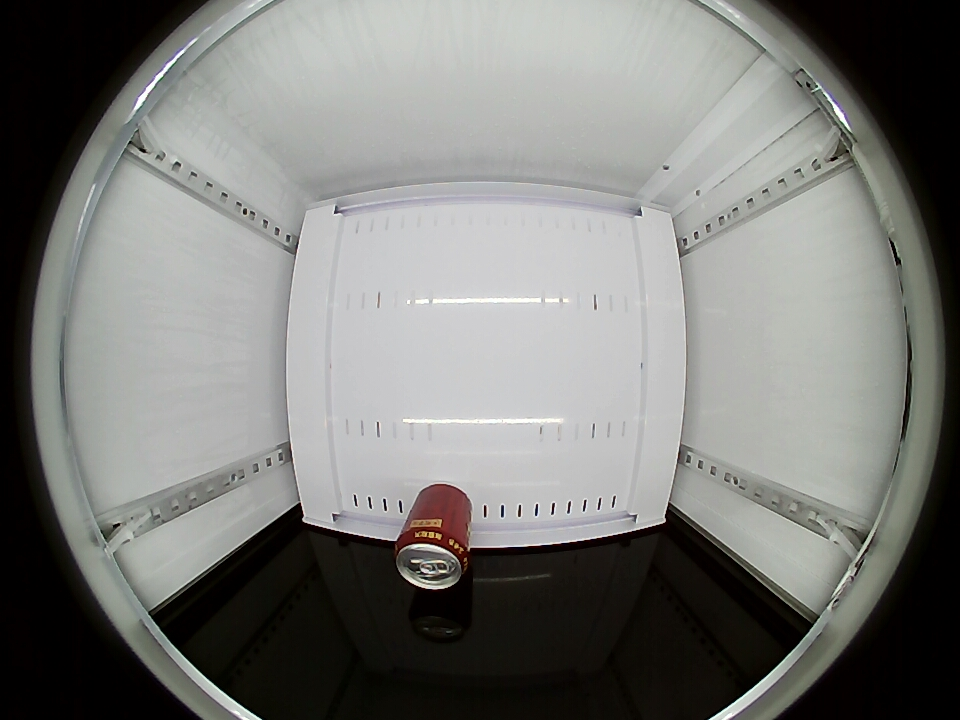wanglaoji-c: (394, 525, 471, 590)
